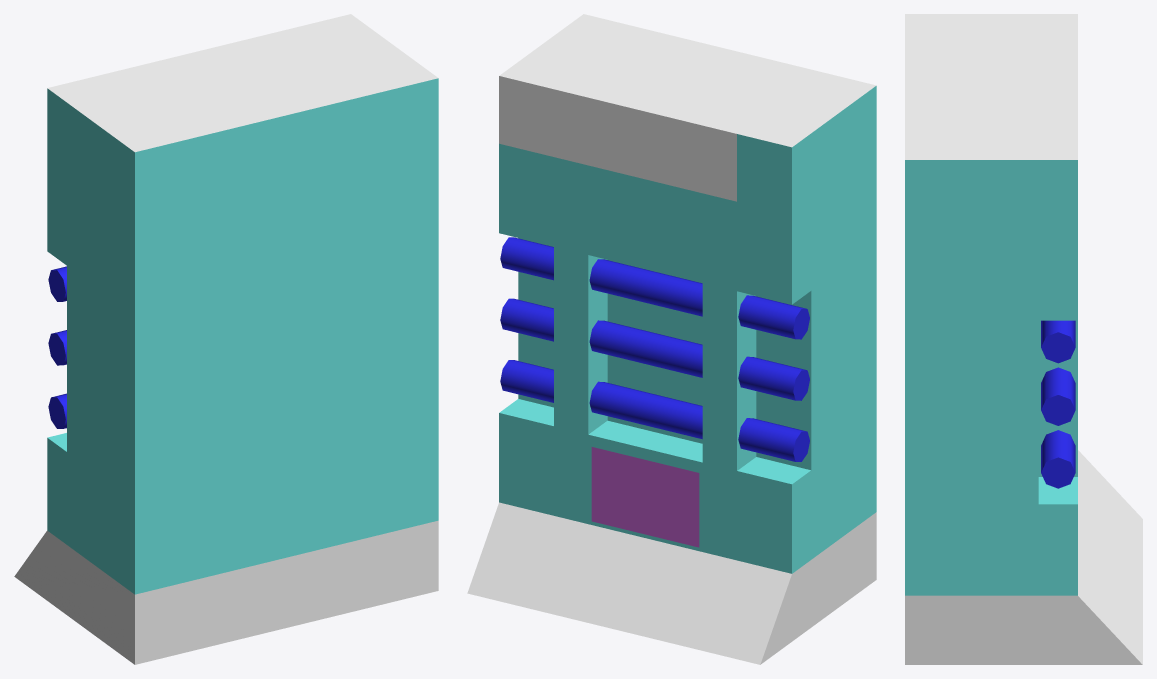
The model's file is WallBaseLow.fbx.
3 renders of one model, left to right at view 1: azimuth 30°, elevation 25°; view 2: azimuth 150°, elevation 25°; view 3: azimuth 270°, elevation 25°, orthographic. The views are drawn at different scales.
Parts seen in each view (by area): view 1: BaseLow; view 2: BaseLow; view 3: BaseLow.
Boxes of the visible parts, x1,y1,x2,y2 form: BaseLow: (14, 14, 438, 664); BaseLow: (467, 14, 876, 664); BaseLow: (905, 14, 1142, 664).
Bounding box in the file's own units: 78.74 × 127 × 54.17.
